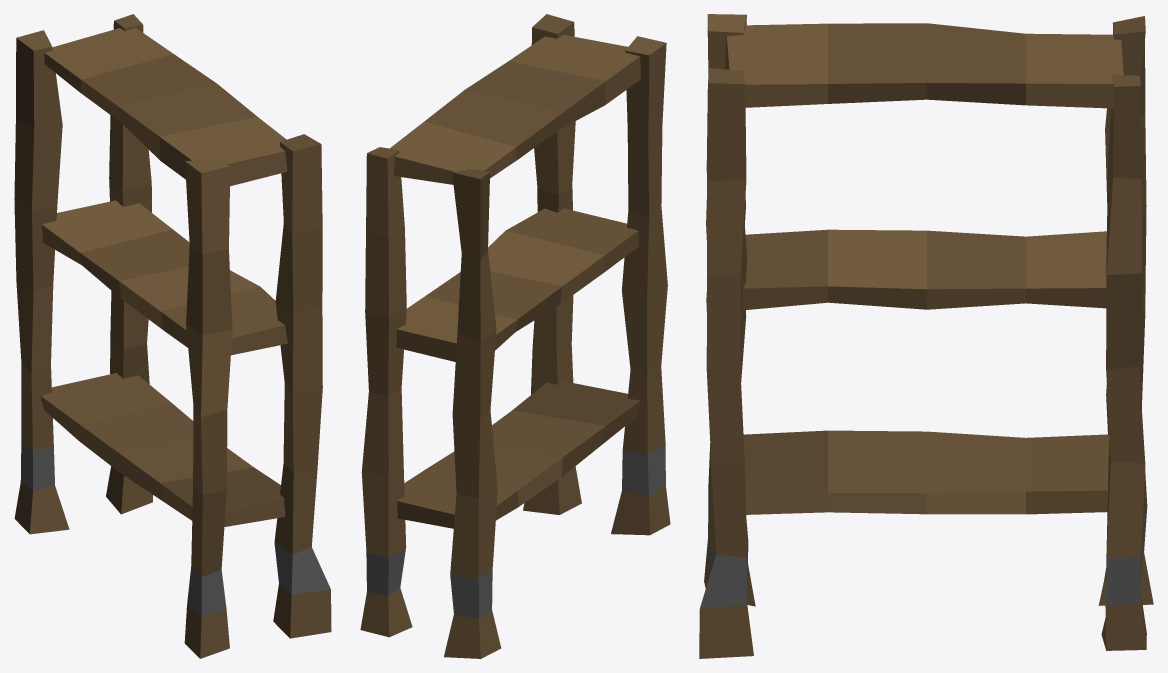
Rendered from Shelf2.fbx.
The picture shows the model from 3 angles, left to right: view 1: azimuth 30°, elevation 25°; view 2: azimuth 150°, elevation 25°; view 3: azimuth 270°, elevation 25°; orthographic projection. The views are drawn at different scales.
Parts seen in each view (by area): view 1: Cube; view 2: Cube; view 3: Cube.
Part boxes in pixels (x1,y1,x2,y2): Cube: (14, 14, 331, 658); Cube: (360, 14, 670, 658); Cube: (699, 14, 1153, 658).
Size of the model in its own units: 56.24 by 202 by 146.
